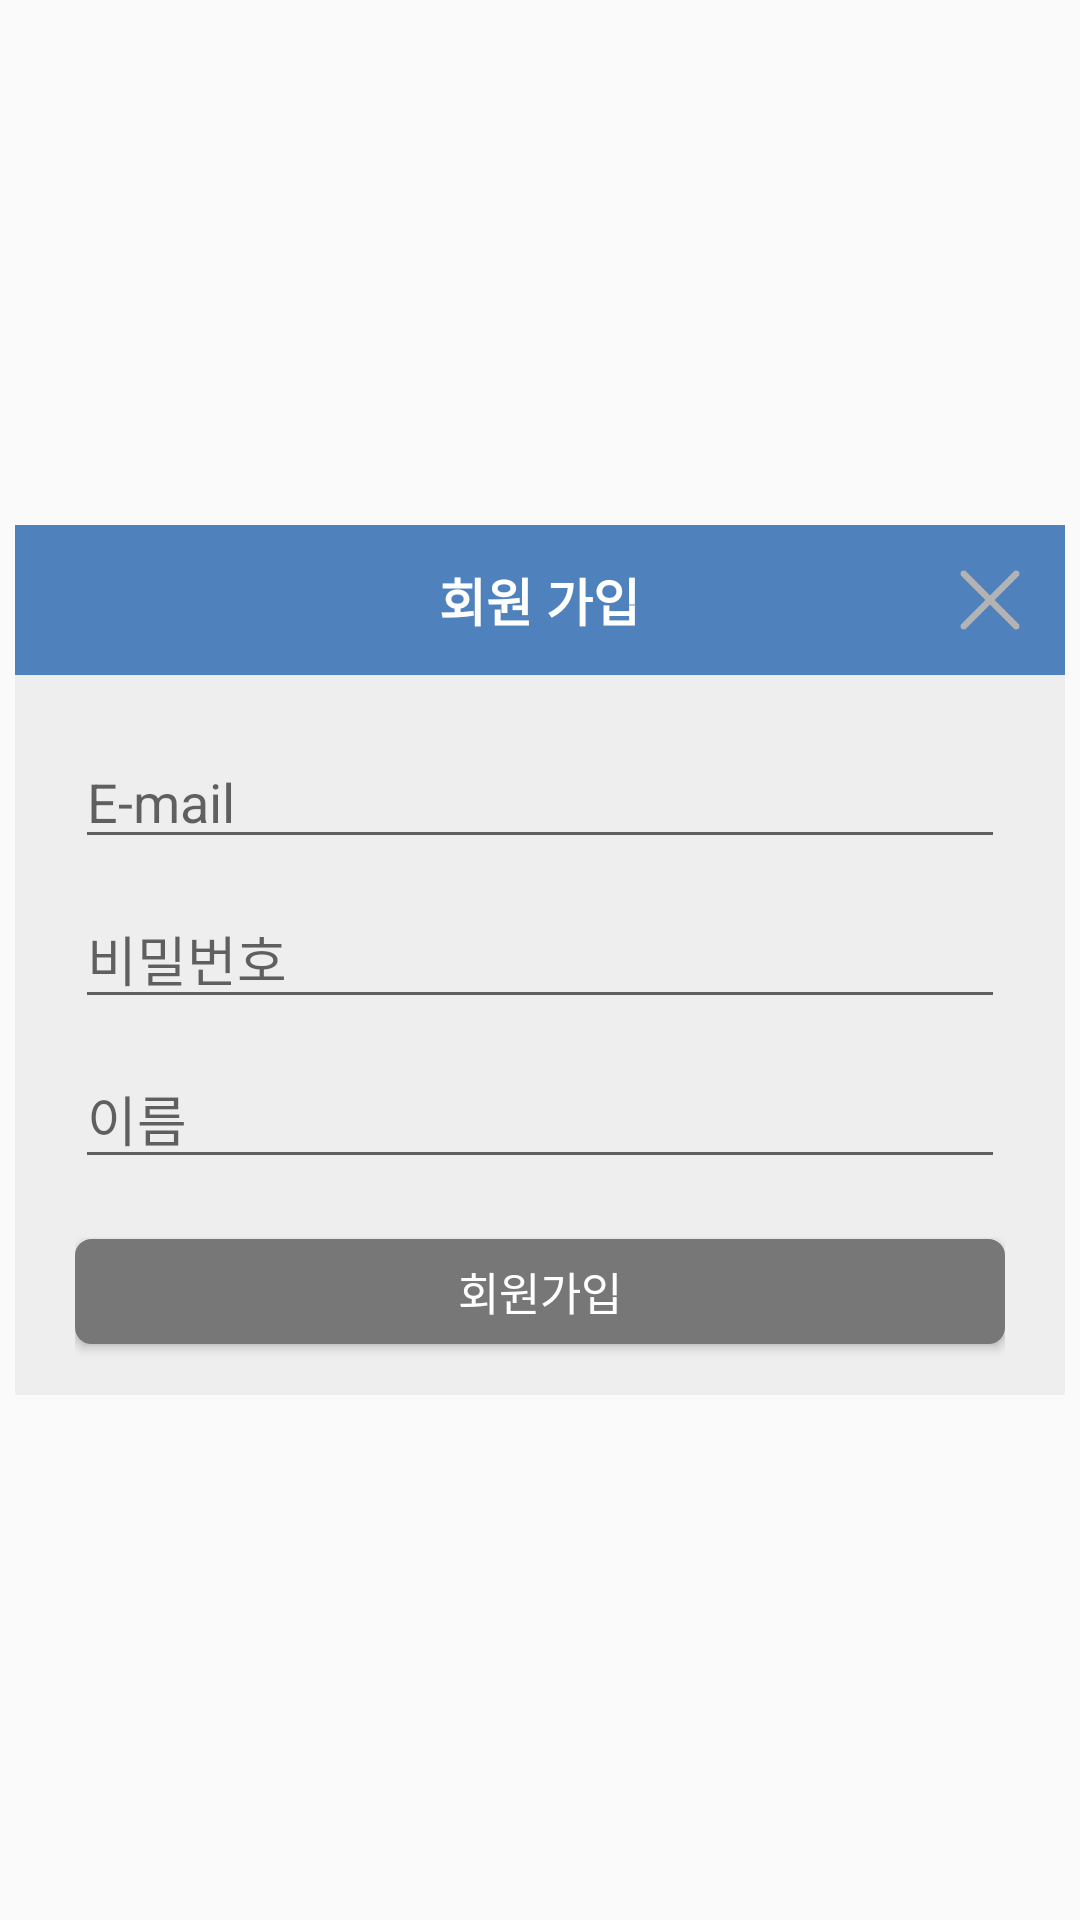

Named icons in this screenshot (1080px×1920px) and their centers, (x=x, y=y):
취소: (x=990, y=600)
